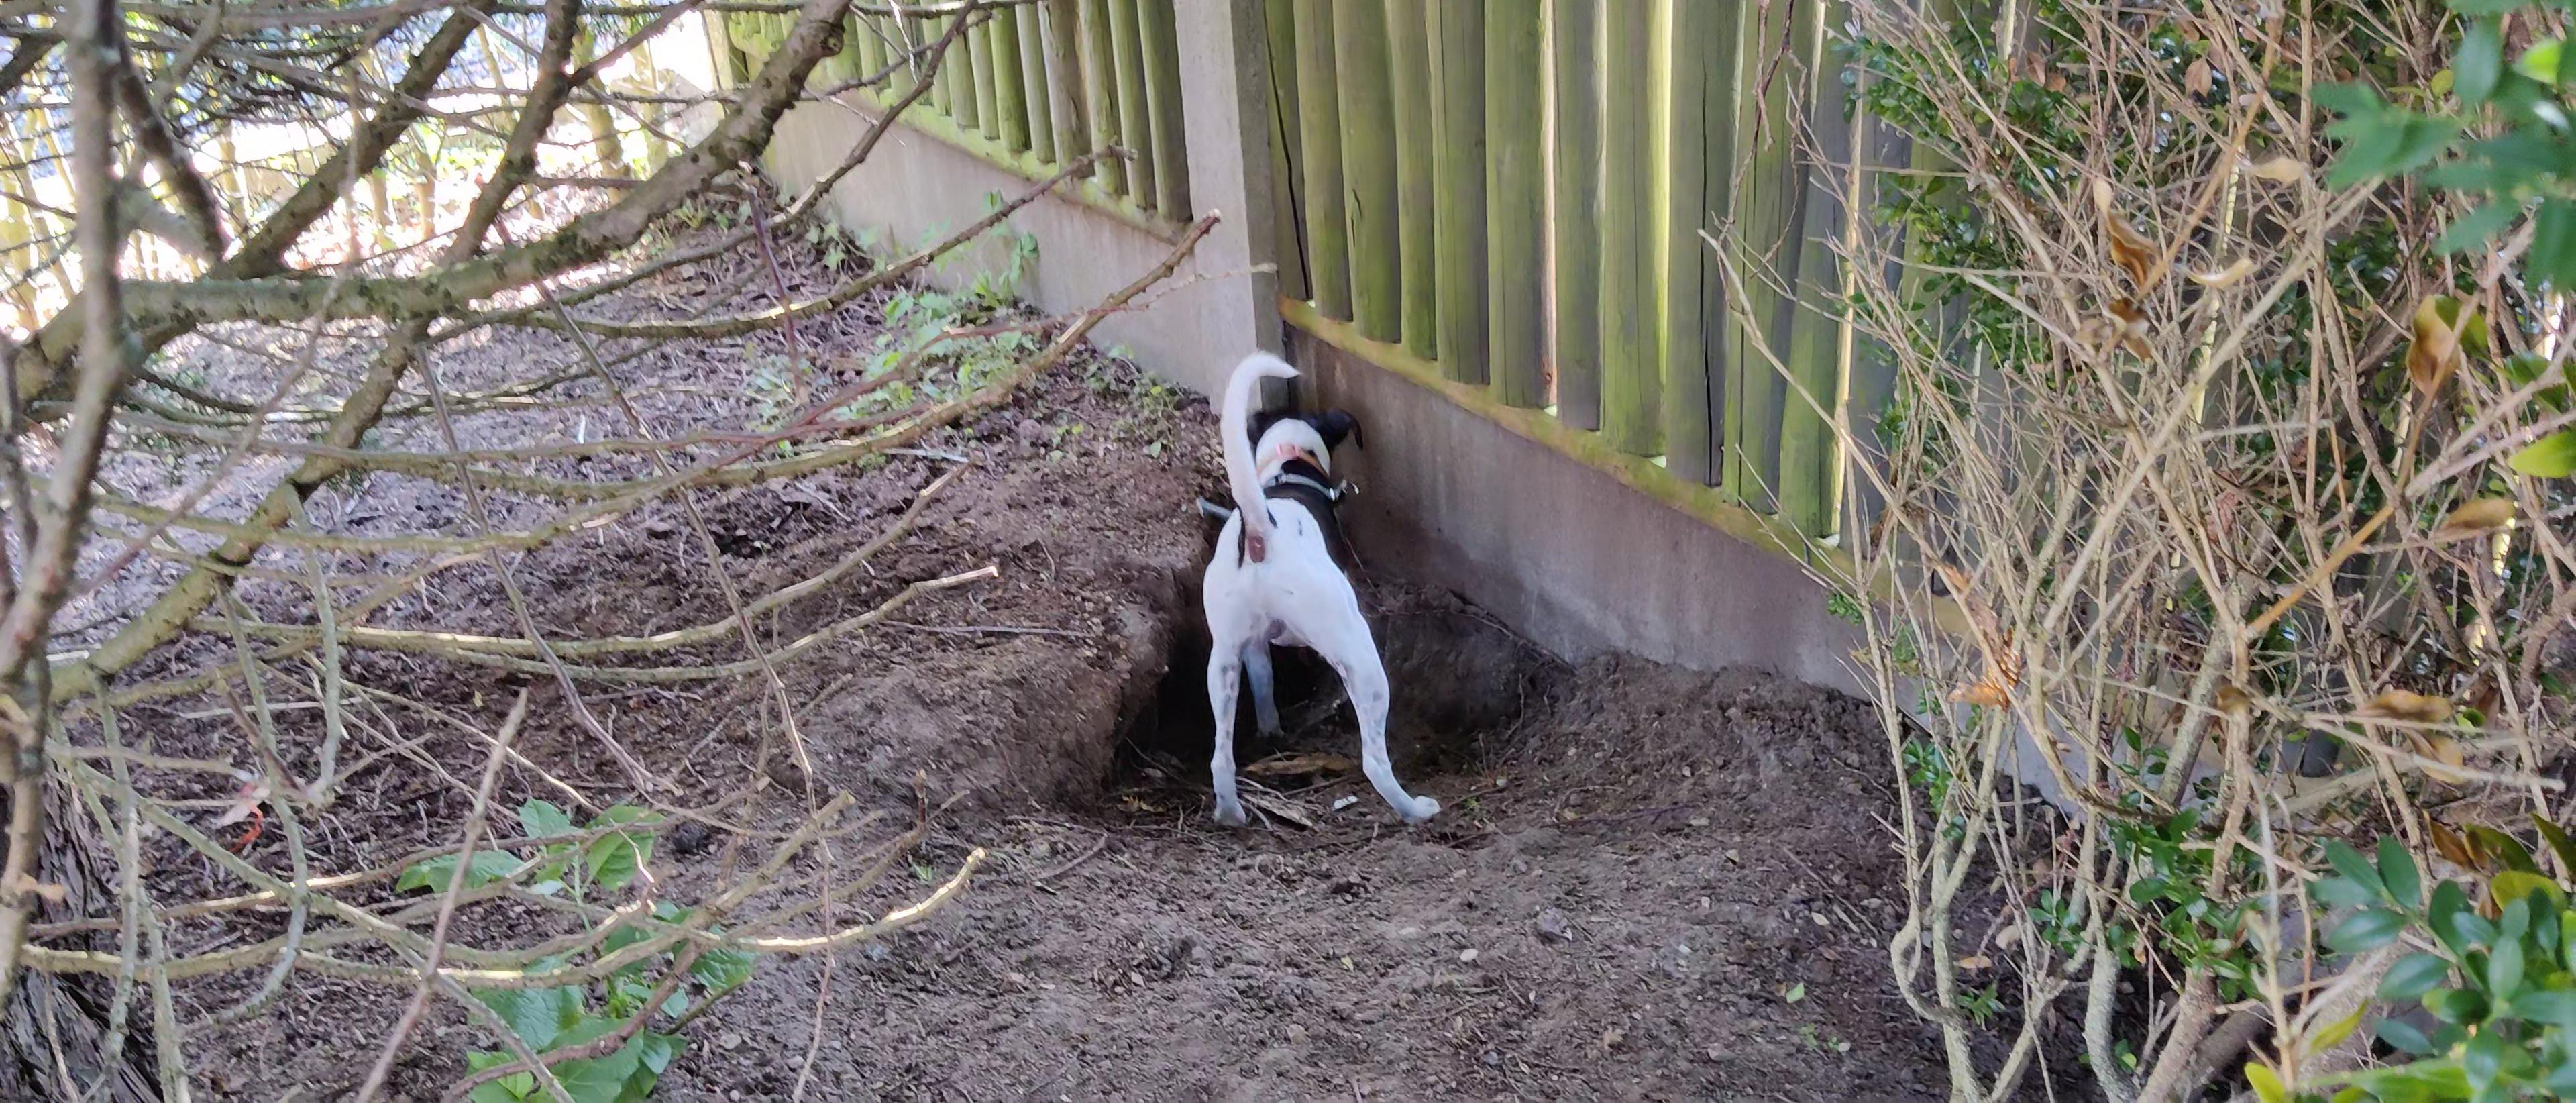Dog: (1163, 327, 1465, 843)
